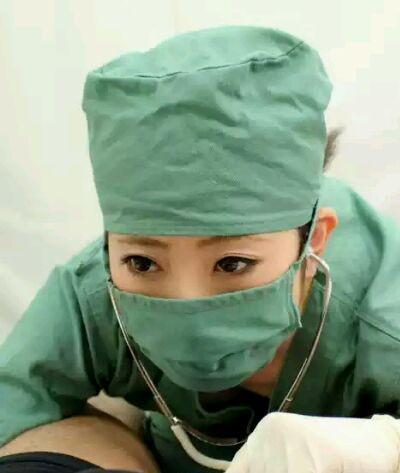OK: (108, 223, 300, 389)
